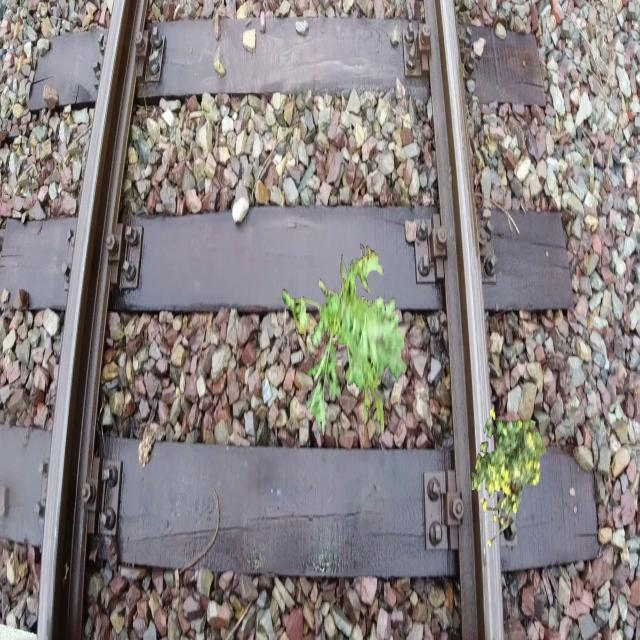Plant: (282, 243, 407, 439), (472, 408, 547, 548), (324, 253, 388, 365)
